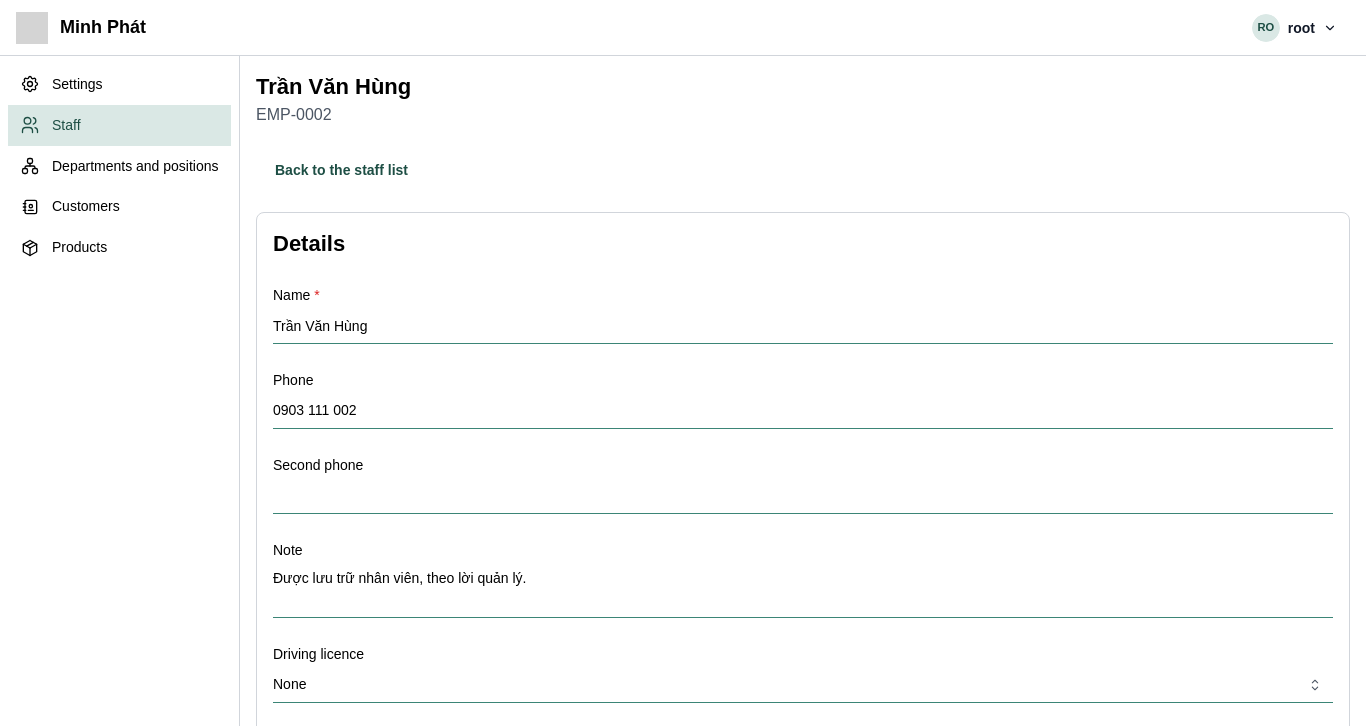
Test case: a person’s page › A save that fails says so and keeps what was typed
Step 1. Replace the text in the field labelled "Name *" with "Tên mới" → (803, 326), box [273,308,1333,344]
(page scrolled)
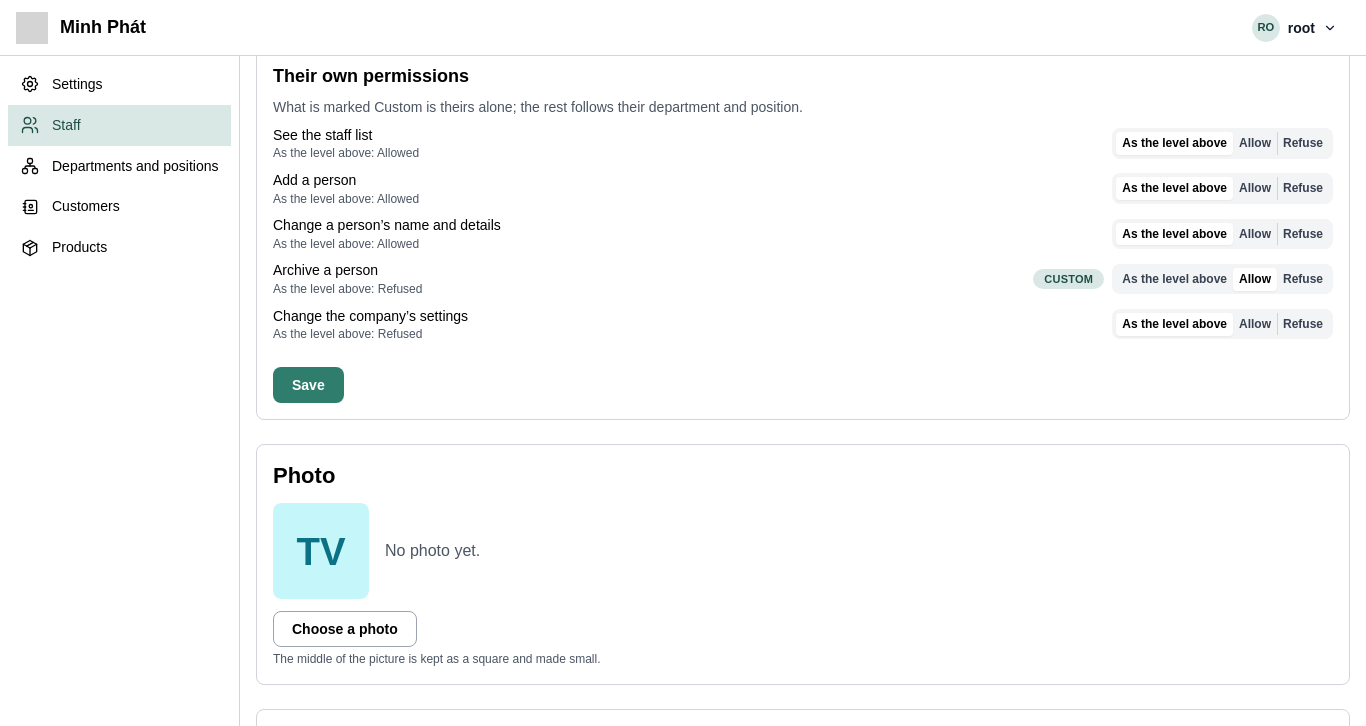
Step 2. Click the button "Save" → (308, 385), box [273,367,344,403]
(page scrolled)
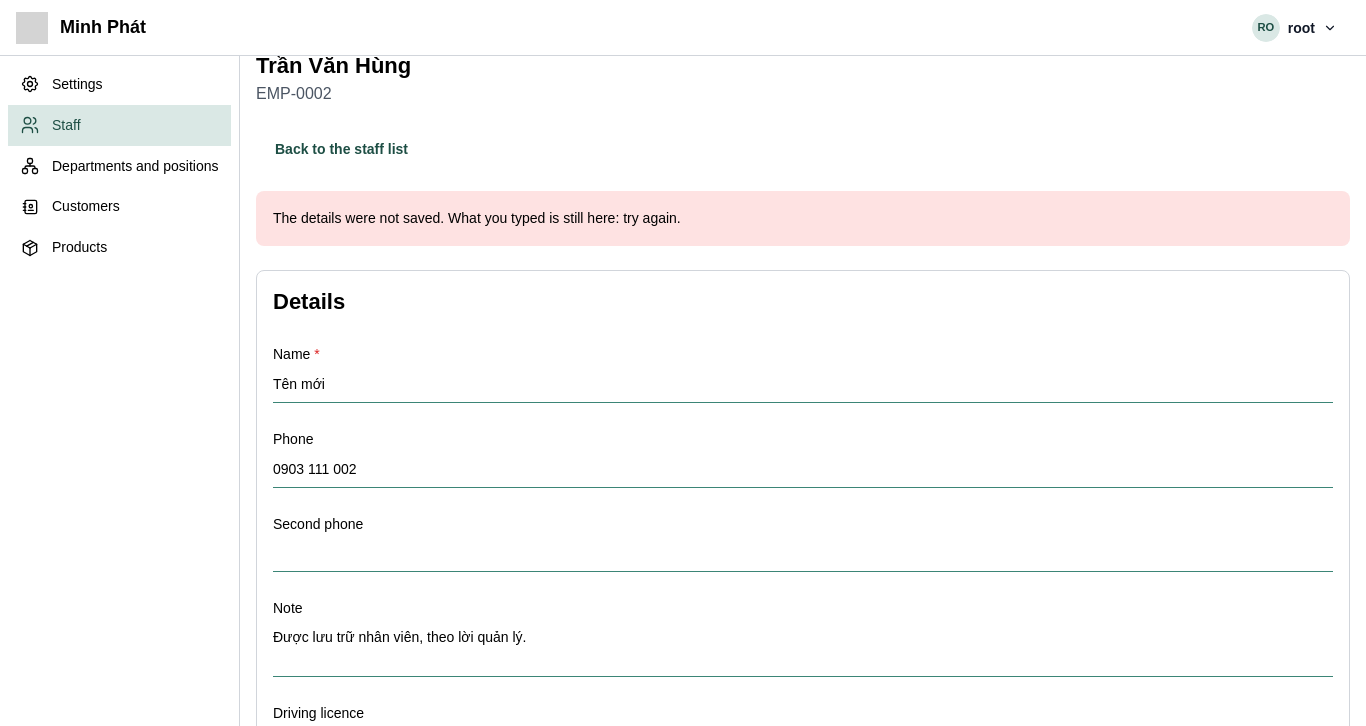
Check: the message shows "were not saved", box [273,210,681,226]
